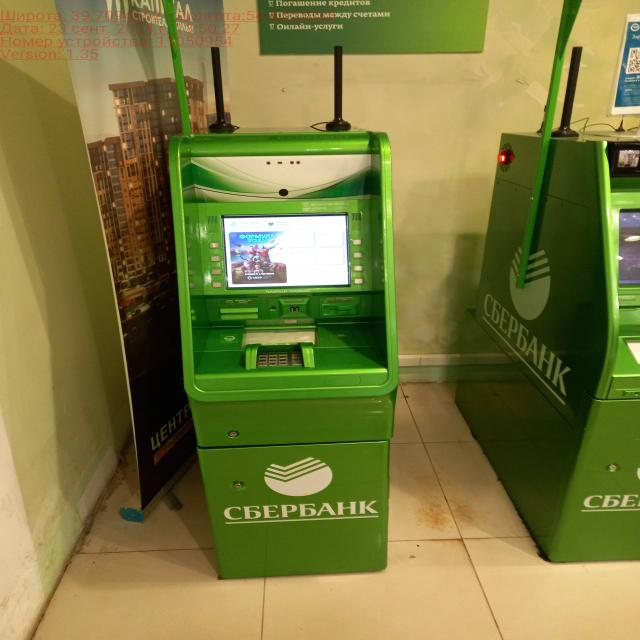bank: (160, 117, 405, 584), (455, 127, 640, 566)
